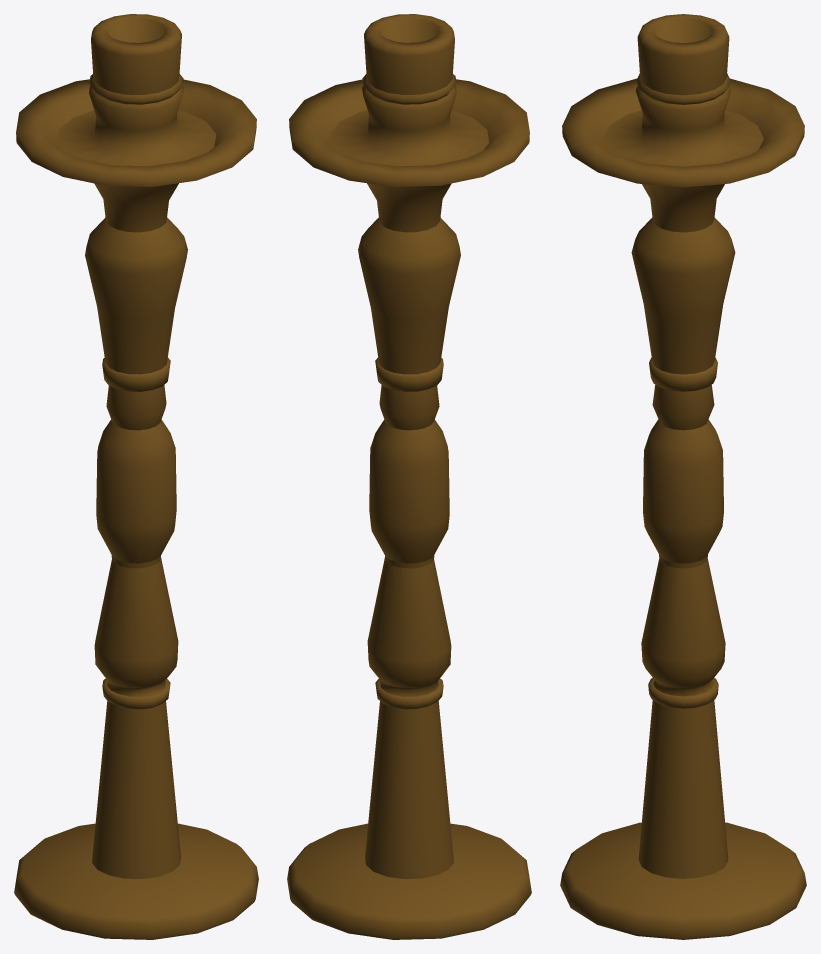
The model's file is Candle_holder_2.fbx.
The picture shows the model from 3 angles, left to right: view 1: azimuth 30°, elevation 25°; view 2: azimuth 150°, elevation 25°; view 3: azimuth 270°, elevation 25°; orthographic projection.
Parts seen in each view (by area): view 1: Candle_holder_2; view 2: Candle_holder_2; view 3: Candle_holder_2.
Part boxes in pixels (x1=…): Candle_holder_2: x1=14, y1=14, x2=258, y2=939; Candle_holder_2: x1=287, y1=14, x2=531, y2=939; Candle_holder_2: x1=560, y1=14, x2=806, y2=939.
Size of the model in its own units: 9 by 34.52 by 9.
